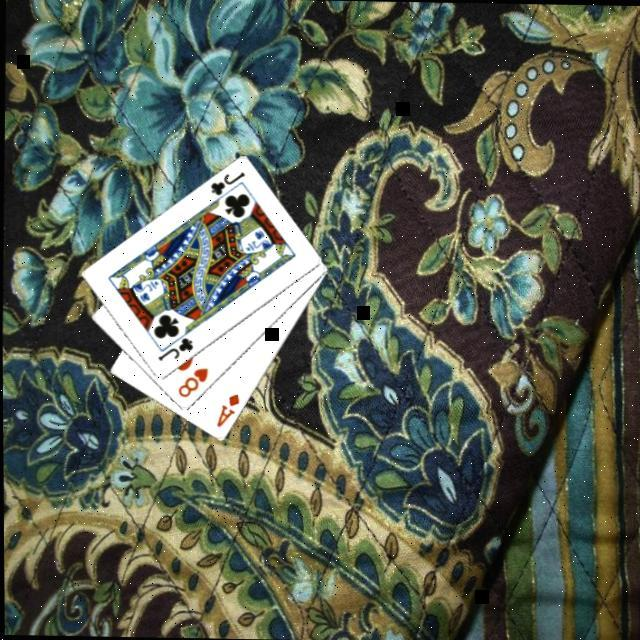8H: (173, 363, 210, 400)
AD: (211, 390, 241, 430)
JC: (153, 333, 194, 364), (206, 167, 247, 198)
